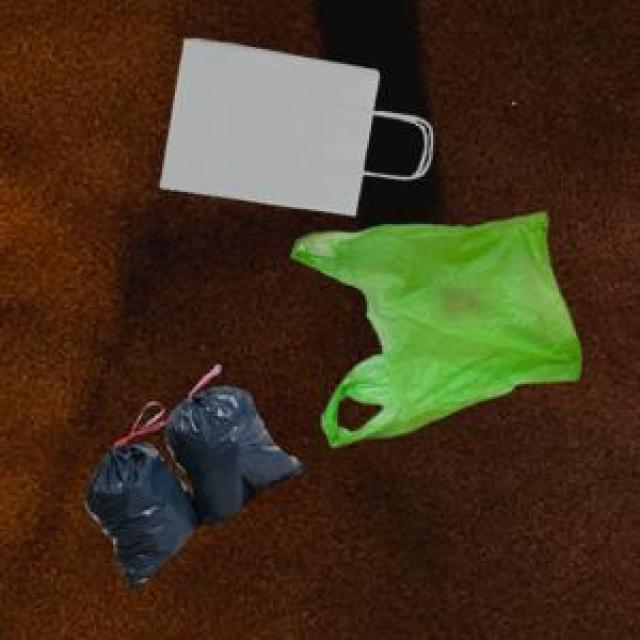miscellaneous trash: (288, 209, 576, 442), (81, 361, 301, 585)
paper: (156, 34, 422, 211)
